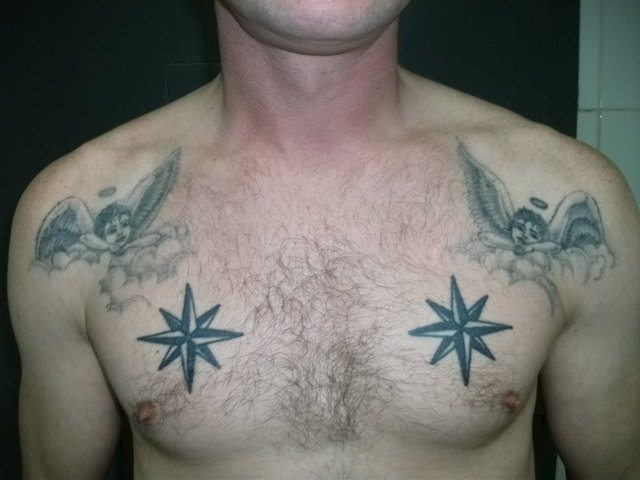tatu1_angel: (451, 137, 613, 304), (37, 152, 195, 284)
tatu4_zvezda: (407, 276, 514, 389), (134, 285, 243, 395)
